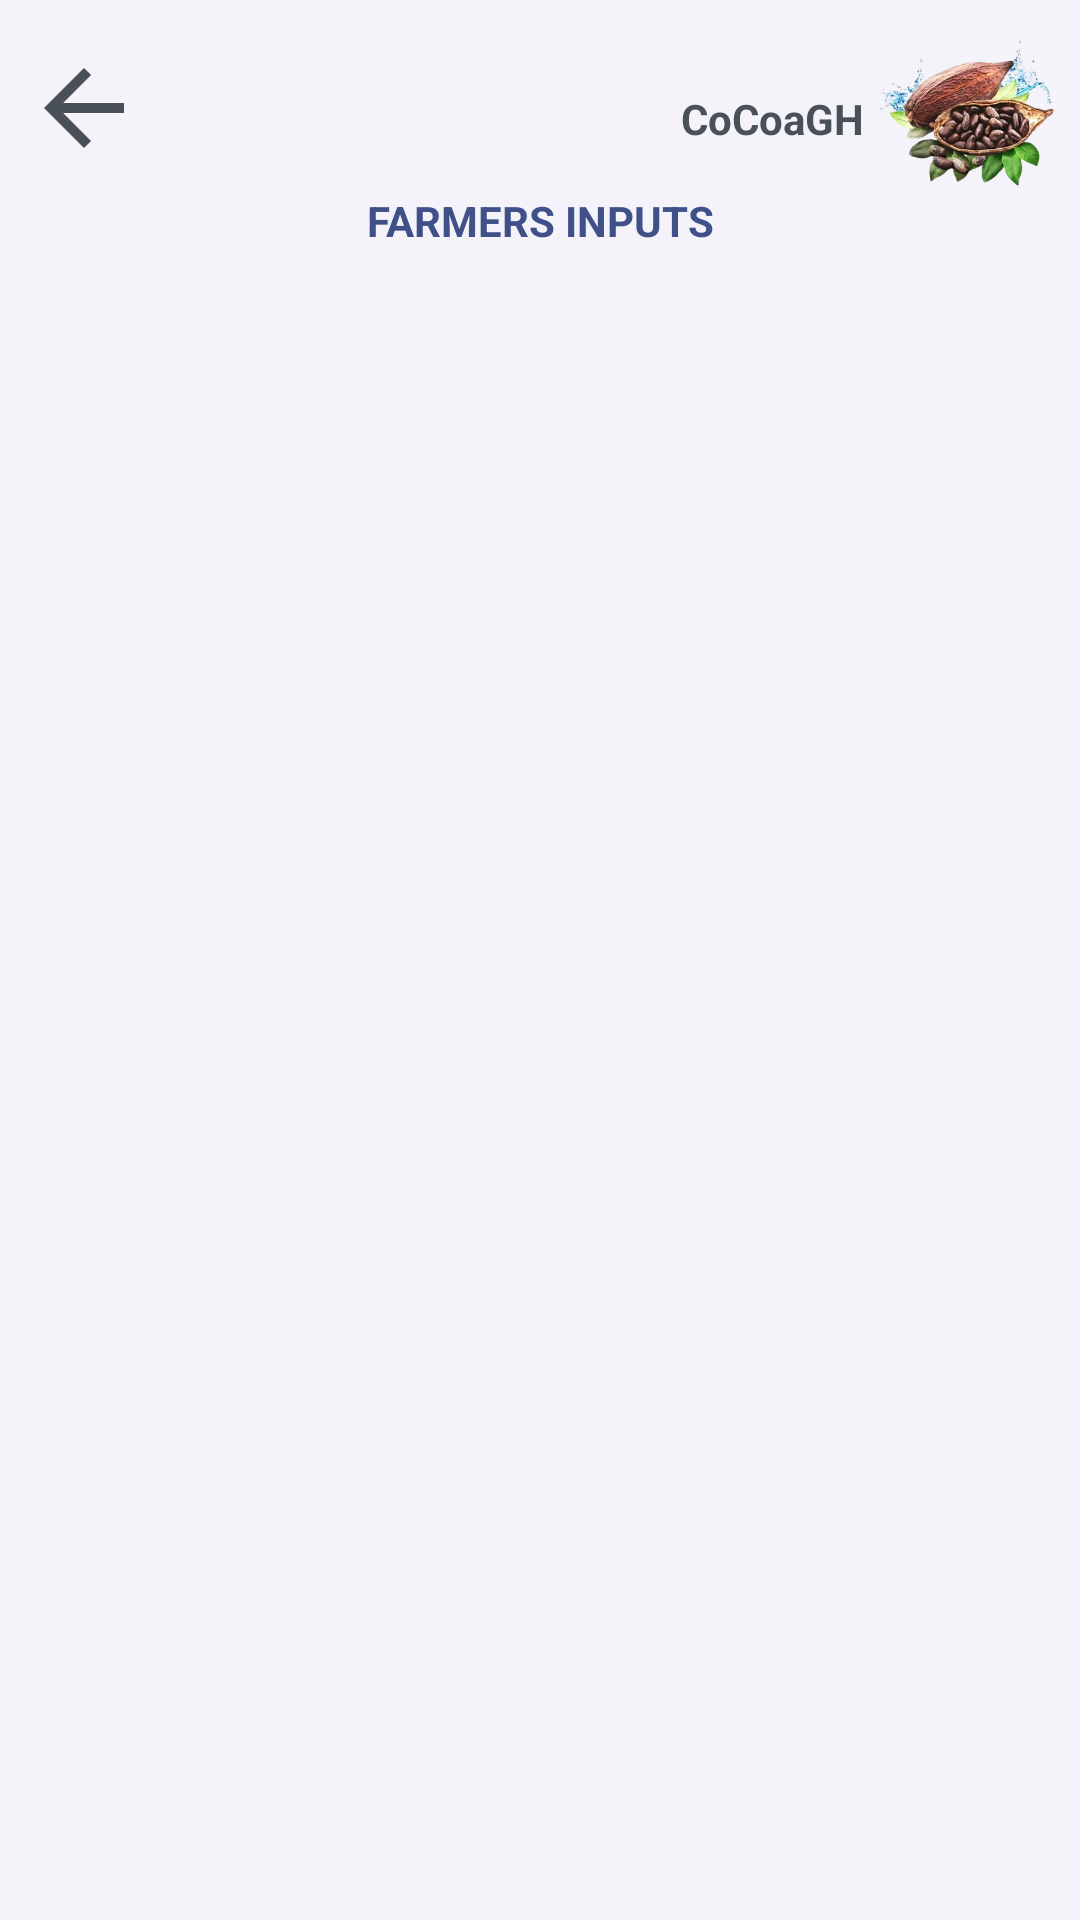

Screen size 1080*1920. Icon name, then its center in pixels as (x=x, y=y):
arrow back: (x=84, y=108)
